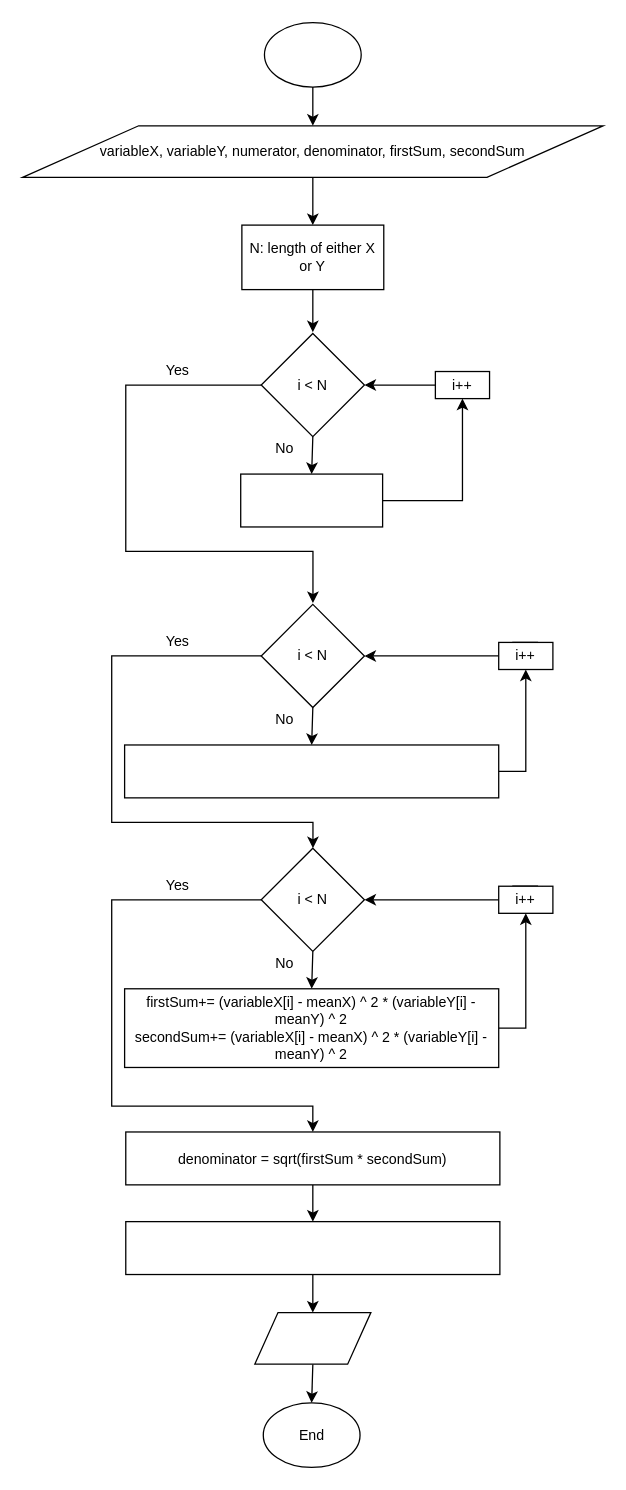
Some shapes in this 626 by 1490 pixel diagram are drawn without their labels. Here are the shapes that lost their labels. From the top down, the centre of each, then its label:
At (312,54): "Start".
At (311,500): "sumX += variableX[i] sumY += variableY[i]".
At (311,771): "numerator += (variableX[i] - meanX) * (variableY[i] - meanY)".
At (312,1247): "correlation = numerator / denominator".
At (312,1337): "correlation".
